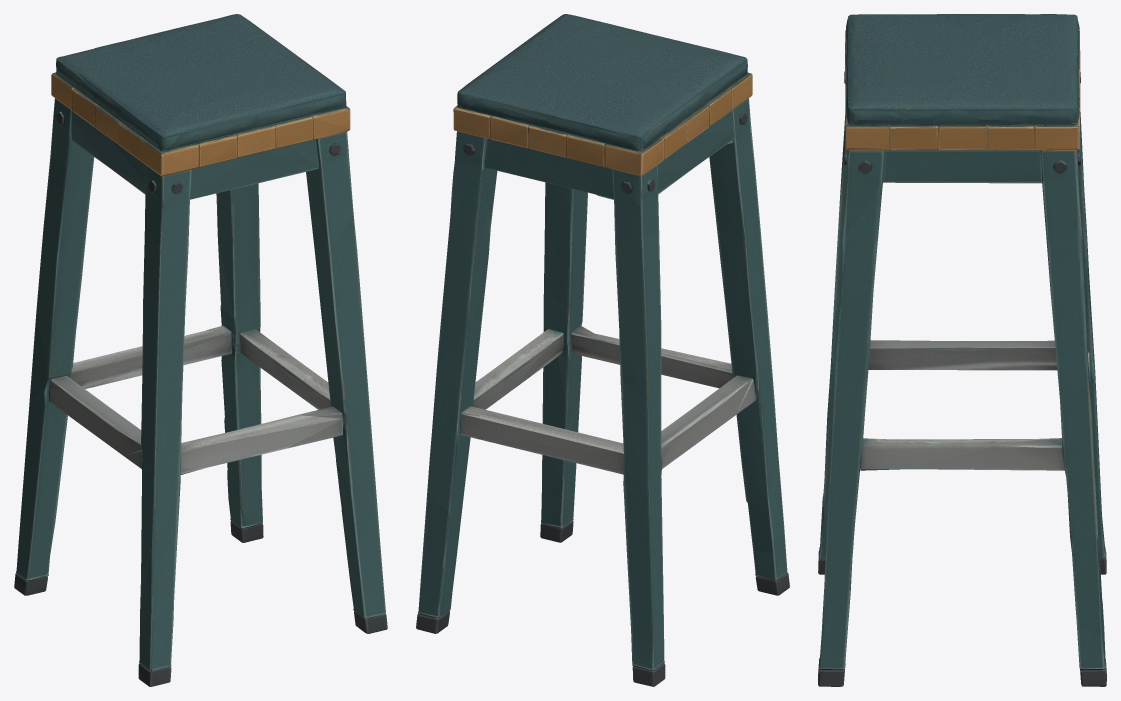
File: barStool.glb
3 renders of one model, left to right at view 1: azimuth 30°, elevation 25°; view 2: azimuth 150°, elevation 25°; view 3: azimuth 270°, elevation 25°, orthographic. The views are drawn at different scales.
Parts seen in each view (by area): view 1: Mesh_0; view 2: Mesh_0; view 3: Mesh_0.
Part boxes in pixels (left/top/right/bottom): Mesh_0: left=14, top=14, right=387, bottom=686; Mesh_0: left=416, top=14, right=789, bottom=686; Mesh_0: left=818, top=14, right=1106, bottom=686.
Bounding box in the file's own units: 0.3703 × 0.8 × 0.3671.
Materials: 1 (1 with a texture image).
